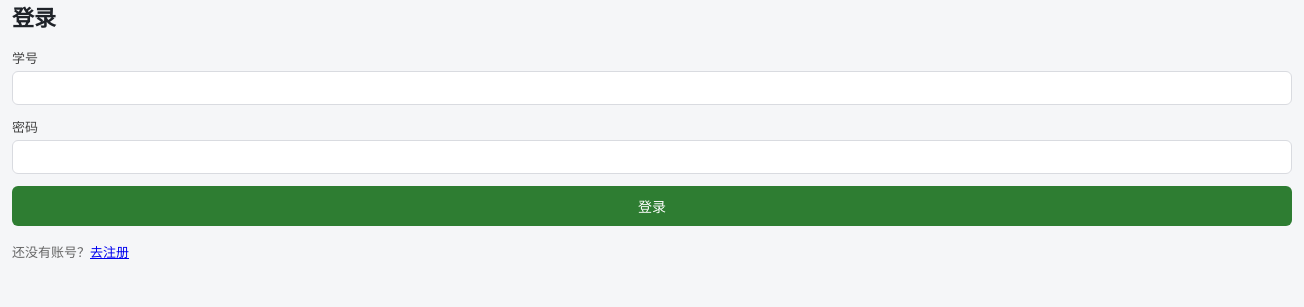
LoginPage › 接口返回业务错误时显示错误信息
Type "2021001" into the field labelled "学号". click: [652, 88]
box: left=12, top=71, right=1292, bottom=105
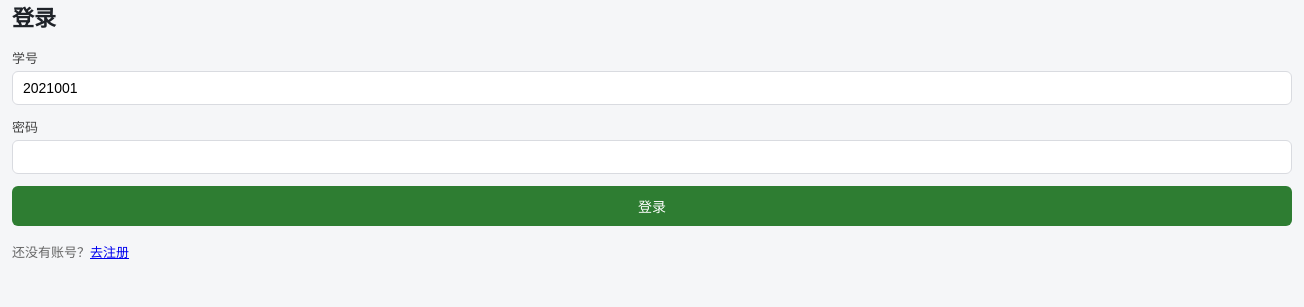
Type "wrong-pass" into the password field labelled "密码". click: [652, 157]
box: left=12, top=140, right=1292, bottom=174
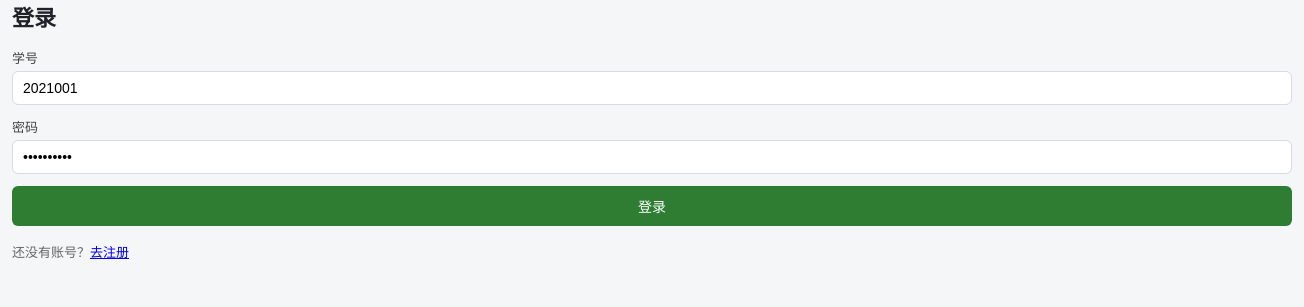
Submit the form, box left=12, top=48, right=1292, bottom=226
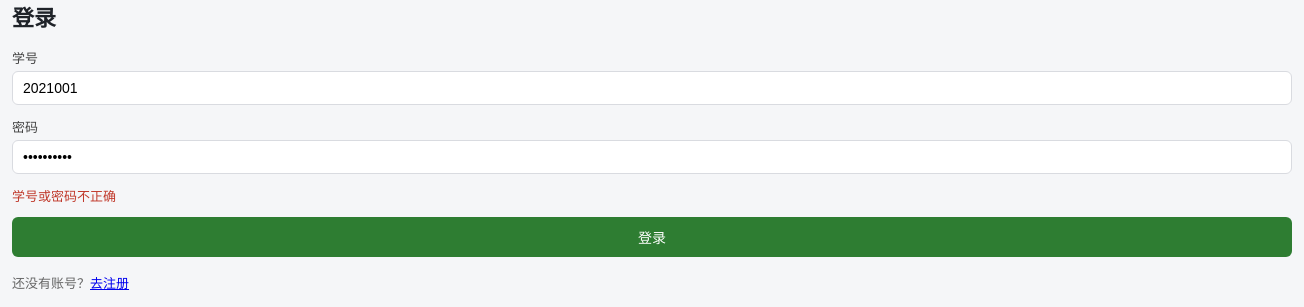
Check: the text "学号或密码不正确" is shown, box left=12, top=188, right=116, bottom=204
